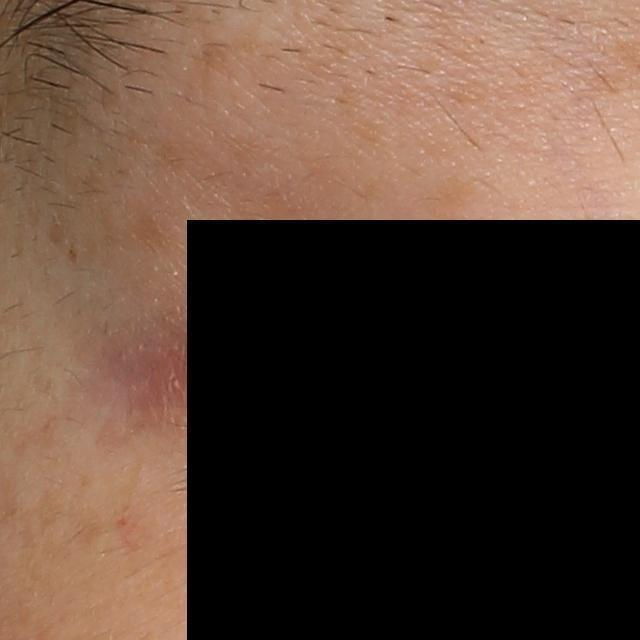melasma: (422, 169, 484, 273), (192, 37, 282, 96), (126, 204, 171, 257), (67, 239, 80, 267)
